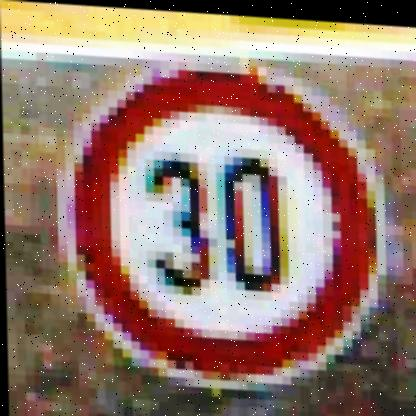Speed Limit -30-: (55, 50, 388, 392)
